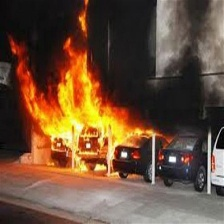fire: (12, 45, 165, 177)
smoke: (172, 1, 214, 119)
